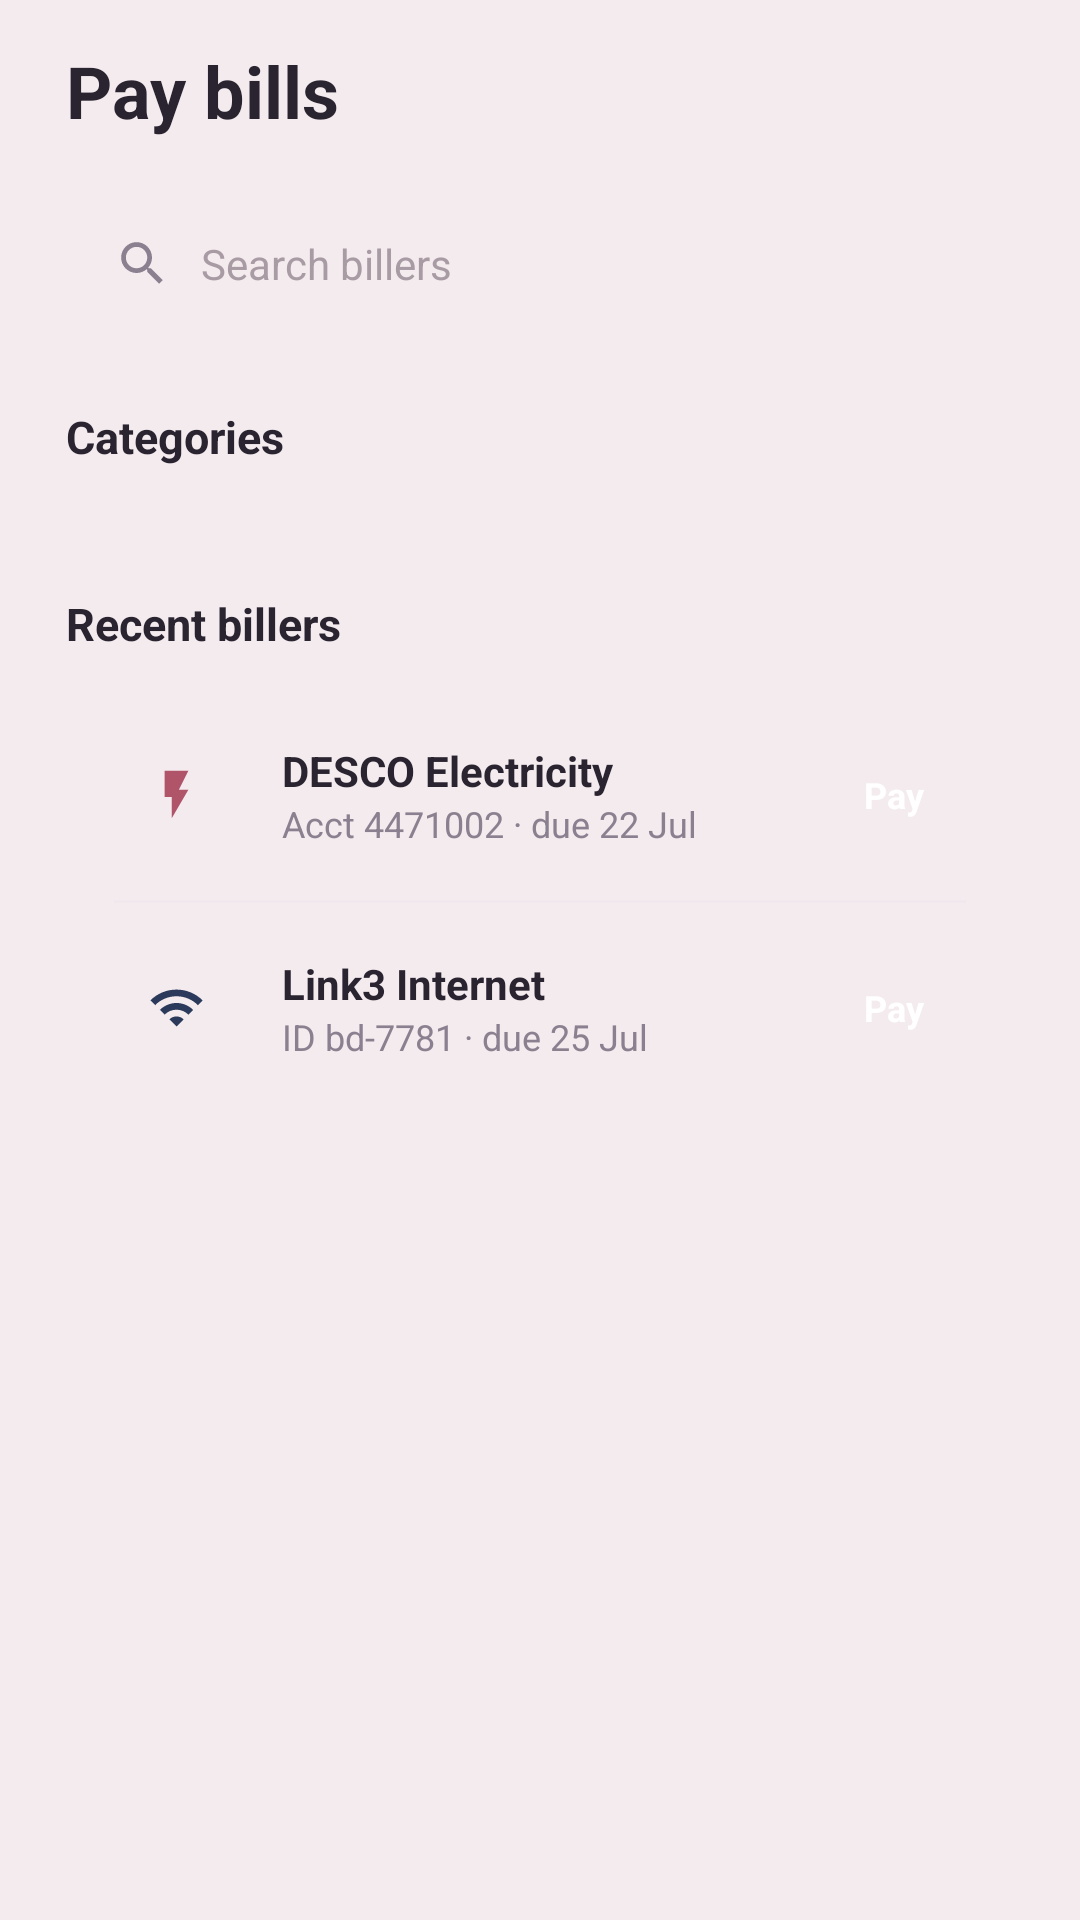

Icons on this 1080px×1920px Android screen, each with its box as (x1, y1, x2, y2):
bolt: (164, 770, 188, 818)
wifi: (150, 989, 203, 1027)
